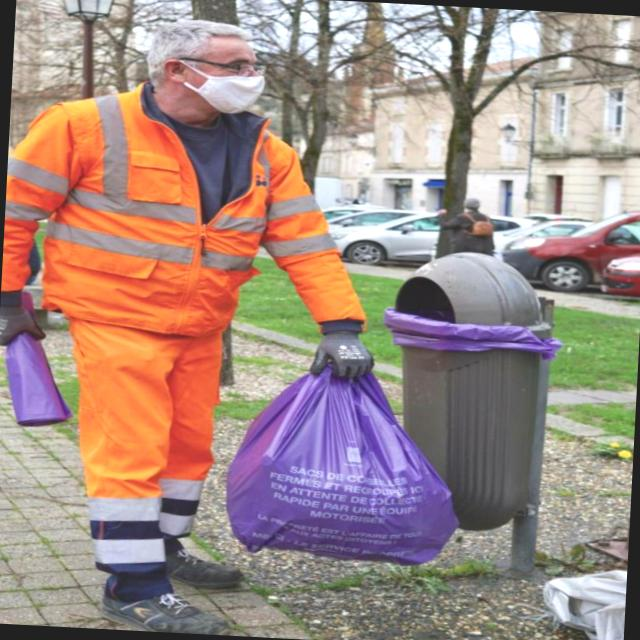garbage: (216, 316, 552, 592)
